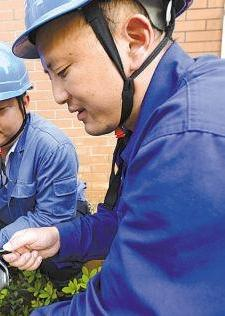hard-hat: (0, 35, 40, 107)
vest: (0, 111, 88, 250)
